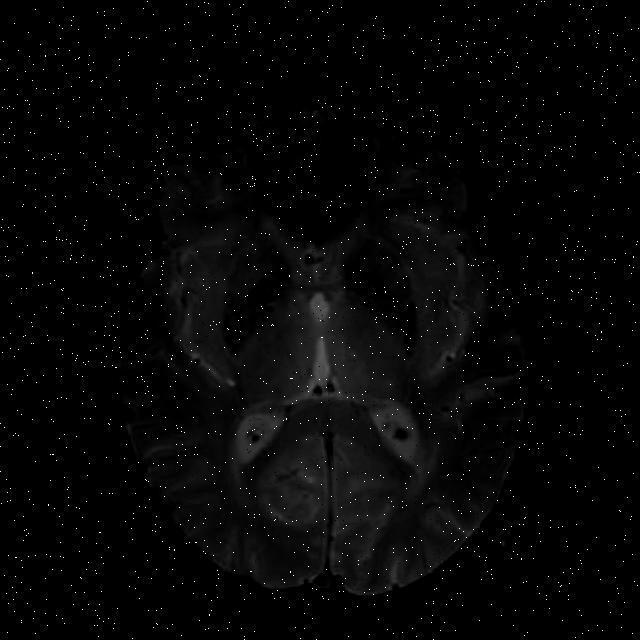MCI: (342, 223, 432, 350), (228, 261, 292, 364)
